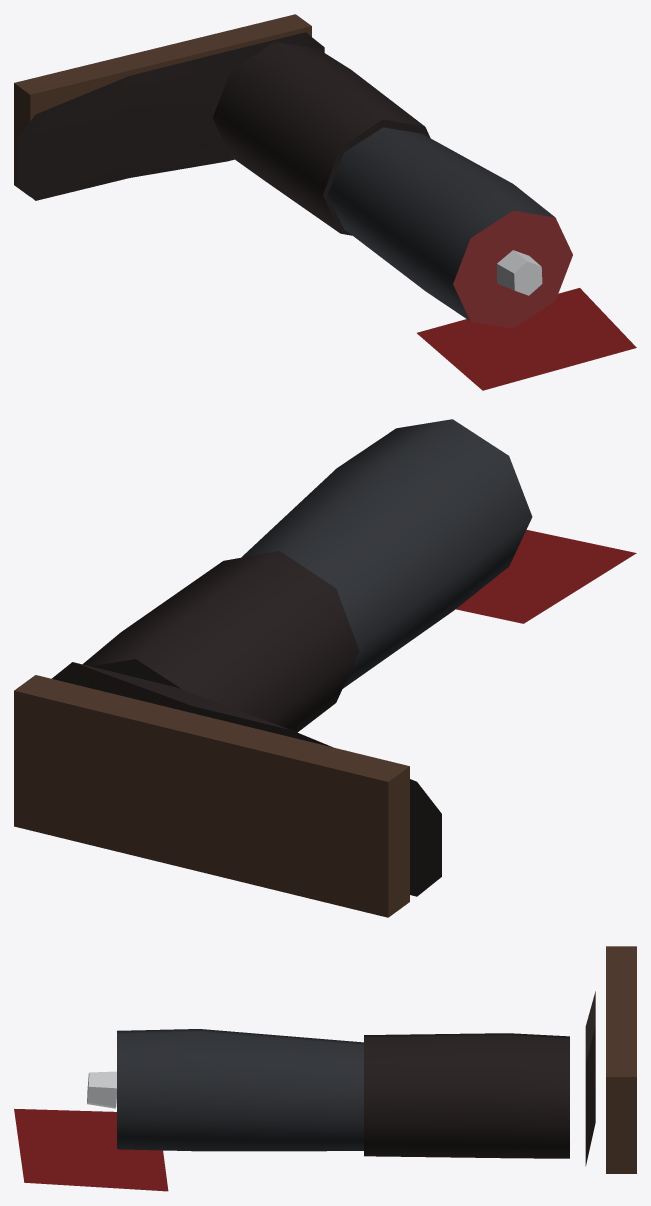
Rendered from limb_leg.glb.
The picture shows the model from 3 angles, top to bottom: view 1: azimuth 30°, elevation 25°; view 2: azimuth 150°, elevation 25°; view 3: azimuth 270°, elevation 25°; orthographic projection. The views are drawn at different scales.
Parts seen in each view (by area): view 1: Limb; view 2: Limb; view 3: Limb.
Boxes of the visible parts, x1=… form: Limb: x1=14, y1=14, x2=636, y2=390; Limb: x1=14, y1=419, x2=636, y2=917; Limb: x1=14, y1=946, x2=636, y2=1191.
Size of the model in its own units: 0.36 by 0.132 by 0.605.
